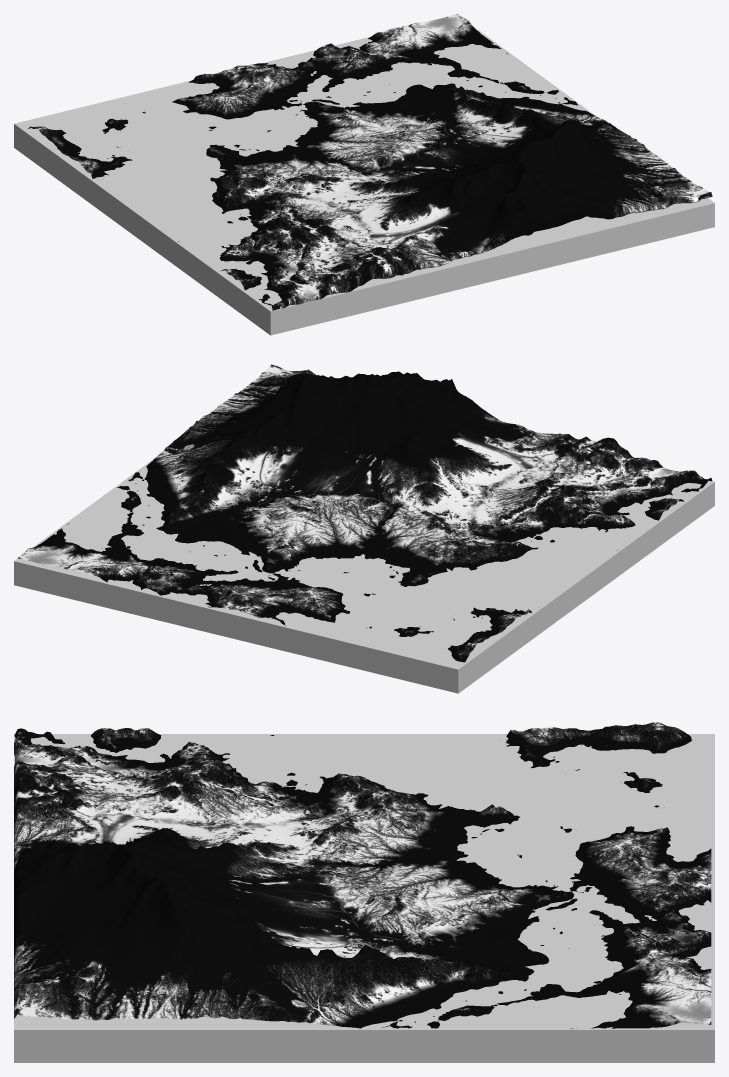
File: mountain_200.glb
3 views of the same model, one above another, from view 1: azimuth 30°, elevation 25°; view 2: azimuth 150°, elevation 25°; view 3: azimuth 270°, elevation 25° (orthographic). The views are drawn at different scales.
Visible parts, largest first — view 1: Alpine Mountain and Sea; view 2: Alpine Mountain and Sea; view 3: Alpine Mountain and Sea.
Boxes of the visible parts, x1,y1,x2,y2 form: Alpine Mountain and Sea: [14, 14, 714, 335]; Alpine Mountain and Sea: [14, 364, 714, 693]; Alpine Mountain and Sea: [14, 722, 714, 1062].
Size of the model in its own units: 418 by 79.82 by 418.
Materials: 2 (1 with a texture image).
